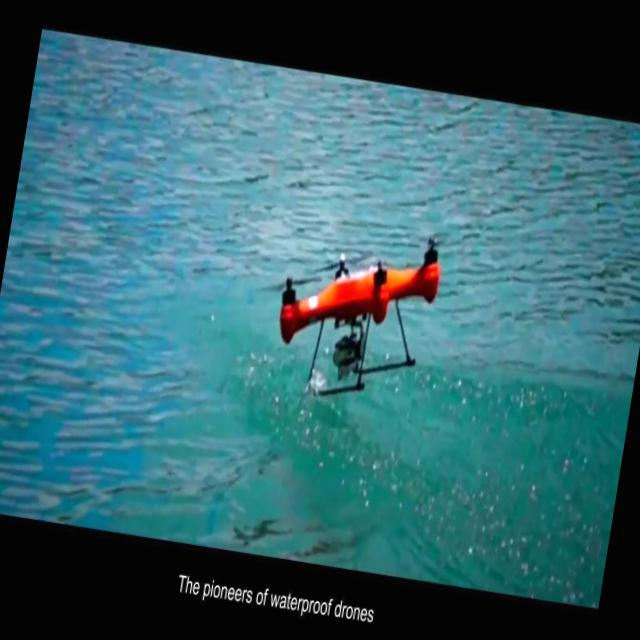drone: (253, 207, 448, 413)
